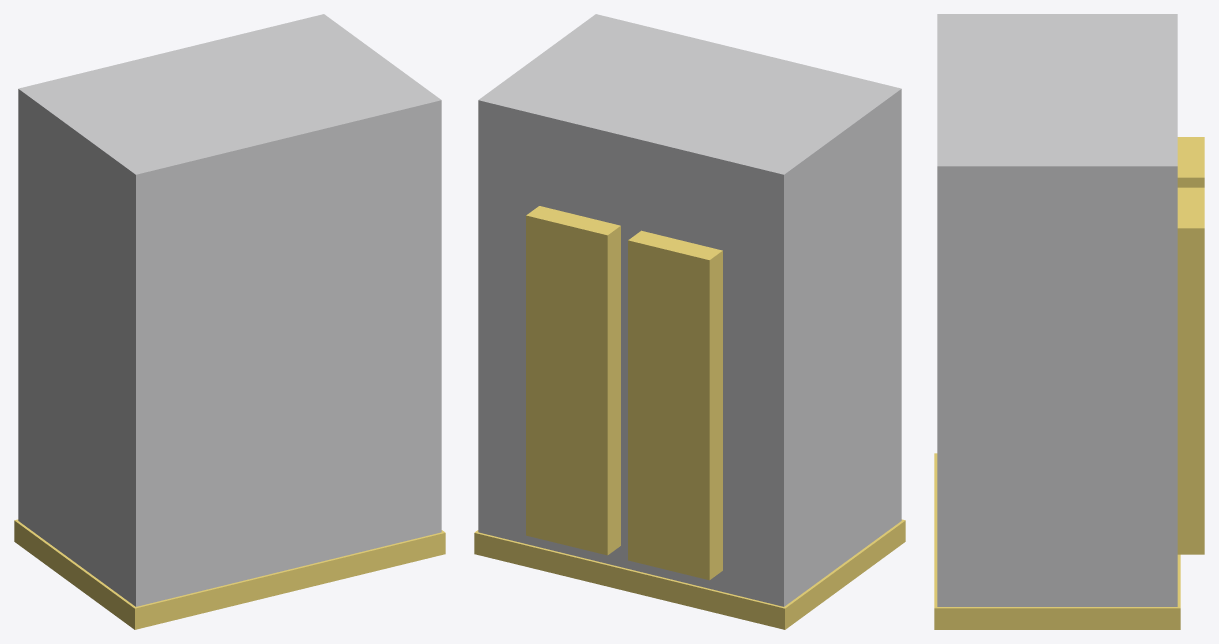
File: sacerdote_saia.glb
3 views of the same model, side by side, from view 1: azimuth 30°, elevation 25°; view 2: azimuth 150°, elevation 25°; view 3: azimuth 270°, elevation 25° (orthographic).
Visible parts, largest first — view 1: sacerdote_saia; view 2: sacerdote_saia; view 3: sacerdote_saia.
Boxes of the visible parts, bbox=[...] form: sacerdote_saia: bbox=[14, 14, 445, 629]; sacerdote_saia: bbox=[474, 14, 905, 629]; sacerdote_saia: bbox=[934, 14, 1204, 629].
Size of the model in its own units: 0.61 by 0.85 by 0.45.
